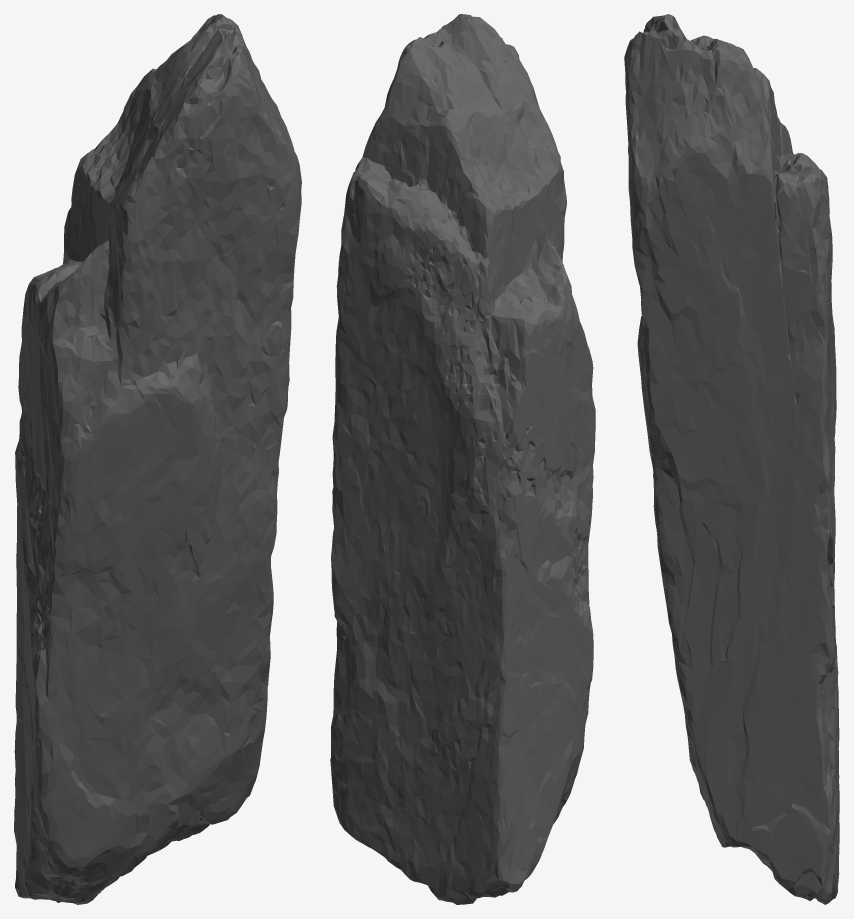
Rendered from truth.obj.
3 views of the same model, side by side, from view 1: azimuth 30°, elevation 25°; view 2: azimuth 150°, elevation 25°; view 3: azimuth 270°, elevation 25° (orthographic). The views are drawn at different scales.
Visible parts, largest first — view 1: geometry; view 2: geometry; view 3: geometry.
Boxes of the visible parts, x1,y1,x2,y2 form: geometry: (14, 14, 301, 904); geometry: (330, 14, 595, 904); geometry: (624, 14, 839, 904).
Bounding box in the file's own units: 0.95 × 3.5 × 0.75.
1 material, 1 textured.
